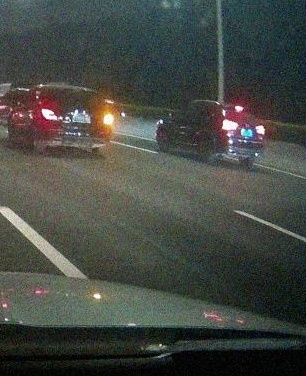L_light: (41, 109, 59, 121), (222, 119, 238, 130)
R_light: (103, 113, 112, 125), (256, 126, 263, 134)
T_light: (72, 91, 82, 94), (235, 107, 243, 110)
night-brake: (220, 103, 264, 167)
night-right: (37, 84, 112, 157)
